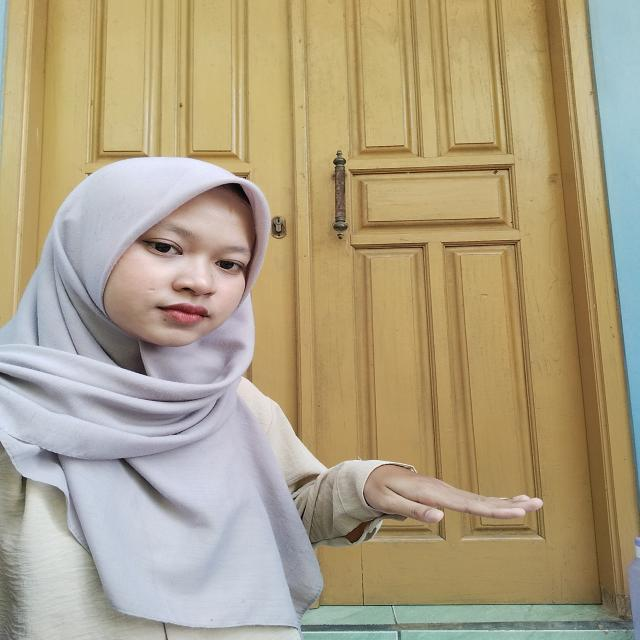adik: (326, 442, 552, 550)
